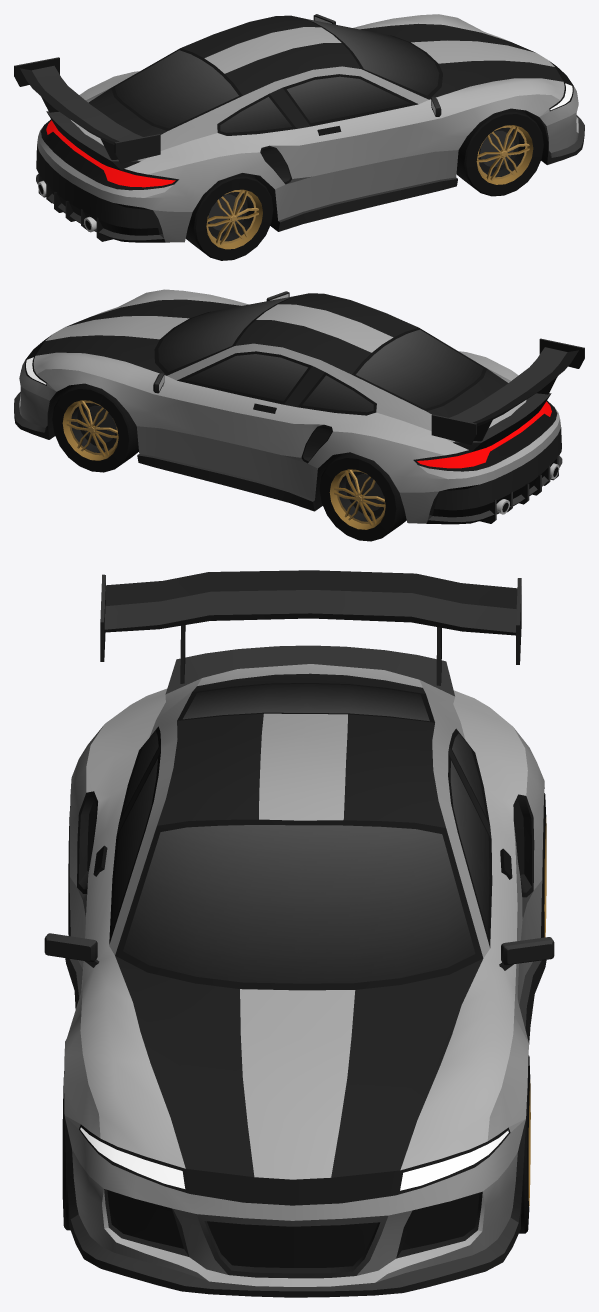
Rendered from Car_198.glb.
3 views of the same model, one above another, from view 1: azimuth 30°, elevation 25°; view 2: azimuth 150°, elevation 25°; view 3: azimuth 270°, elevation 25° (orthographic). The views are drawn at different scales.
Parts seen in each view (by area): view 1: Car_198, wheel_1_Car_198_Wheel_2R, wheel_3_Car_198_Wheel_3R; view 2: Car_198, wheel_0_Car_198_Wheel_1L, wheel_2_Car_198_Wheel_3L; view 3: Car_198, wheel_0_Car_198_Wheel_1L.
Part boxes in pixels (x1=…): Car_198: x1=14, y1=14, x2=584, y2=242; wheel_1_Car_198_Wheel_2R: x1=456, y1=108, x2=543, y2=196; wheel_3_Car_198_Wheel_3R: x1=185, y1=173, x2=273, y2=260; Car_198: x1=14, y1=289, x2=584, y2=524; wheel_0_Car_198_Wheel_1L: x1=52, y1=383, x2=138, y2=472; wheel_2_Car_198_Wheel_3L: x1=319, y1=452, x2=406, y2=541; Car_198: x1=44, y1=570, x2=554, y2=1297; wheel_0_Car_198_Wheel_1L: x1=519, y1=1055, x2=530, y2=1233.
Size of the model in its own units: 4.56 by 1.31 by 2.
Materials: 2 (2 with a texture image).
